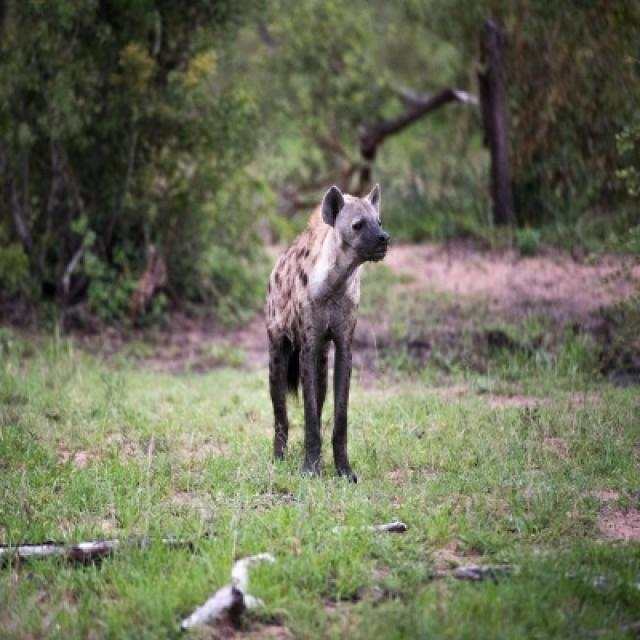hyena: (262, 187, 392, 480)
